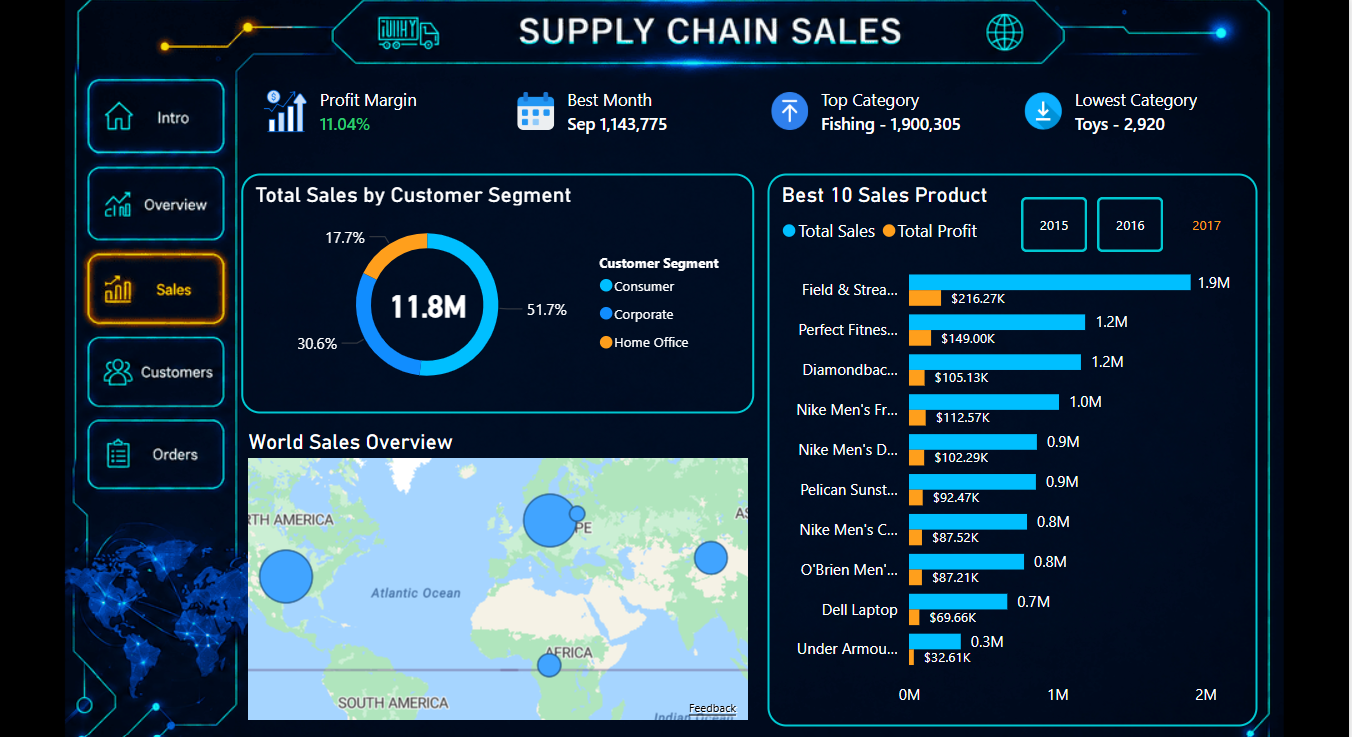

What the dashboard file says about the page in this screenshot:
{"tool":"powerbi","page":{"name":"Sales","canvas":[1080,630],"ordinal":2},"visuals":[{"type":"clusteredBarChart","title":"Best 10 Sales Product","fields":{"Category":["Dim product.Product Name"],"Y":["measures (2).Total Sales","measures (2).Total Profit"]},"box":[614,142,392,443],"z":0},{"type":"cardVisual","fields":{"Data":["measures (2).Profit Margin","measures (2).High Monthly Sales","measures (2).BEST CATEGORY","measures (2).Lowest Month With Sales"]},"box":[193,36,841,113],"z":1000},{"type":"advancedSlicerVisual","fields":{"Values":["DimDate.Year"]},"box":[812,156,186,54],"z":2000},{"type":"azureMap","title":"World Sales Overview","fields":{"Size":["measures (2).Total Sales"],"Category":["Dim Geography.Market"]},"box":[194,346,410,239],"z":3000},{"type":"actionButton","box":[74,78,100,40],"z":4000},{"type":"actionButton","box":[74,142,100,49],"z":5000},{"type":"actionButton","box":[74,279,100,40],"z":6000},{"type":"actionButton","box":[74,346,100,40],"z":7000},{"type":"donutChart","fields":{"Category":["Dim customer.Customer Segment"],"Y":["measures (2).Total Sales"]},"box":[193,142,411,192],"z":8000},{"type":"card","fields":{"Values":["measures (2).Total Sales"]},"box":[298,210,89,76],"z":9000}]}

Visuals, with their boxes on the page's 1080x630 design canvas (x1, y1, x2, y2). These are canvas units, not pixel positions in the 1352x737 screenshot, which may show the page scaled, cropped or inside an application window:
"Best 10 Sales Product" clusteredBarChart: detection(614, 142, 1006, 585)
cardVisual - measures (2).Profit Margin x measures (2).High Monthly Sales: detection(193, 36, 1034, 149)
advancedSlicerVisual - DimDate.Year: detection(812, 156, 998, 210)
"World Sales Overview" azureMap: detection(194, 346, 604, 585)
actionButton: detection(74, 78, 174, 118)
actionButton: detection(74, 142, 174, 191)
actionButton: detection(74, 279, 174, 319)
actionButton: detection(74, 346, 174, 386)
donutChart - Dim customer.Customer Segment x measures (2).Total Sales: detection(193, 142, 604, 334)
card - measures (2).Total Sales: detection(298, 210, 387, 286)
